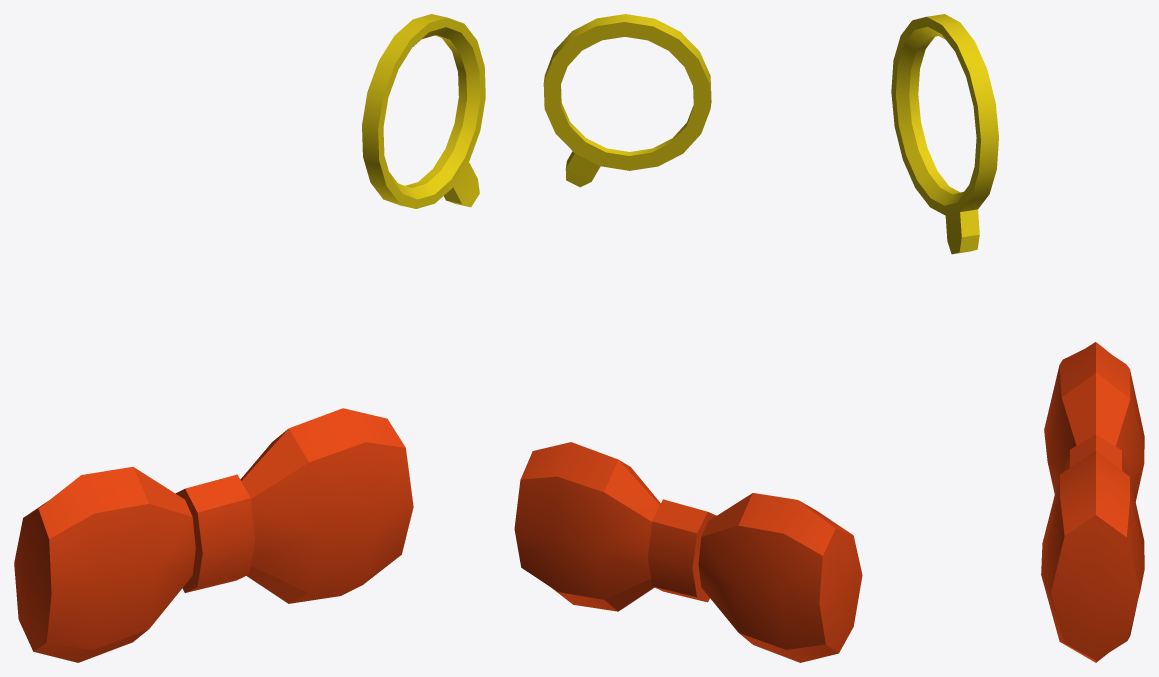
File: Monaclebowtie.fbx
3 renders of one model, left to right at view 1: azimuth 30°, elevation 25°; view 2: azimuth 150°, elevation 25°; view 3: azimuth 270°, elevation 25°, orthographic. The views are drawn at different scales.
Parts seen in each view (by area): view 1: pCylinder13, Monacle; view 2: pCylinder13, Monacle; view 3: pCylinder13, Monacle.
Boxes of the visible parts, box(x1,y1,x2,y2) form: pCylinder13: box(14, 408, 413, 662); Monacle: box(362, 14, 485, 208); pCylinder13: box(514, 442, 862, 662); Monacle: box(543, 14, 711, 187); pCylinder13: box(1041, 342, 1144, 662); Monacle: box(891, 14, 998, 254).
Size of the model in its own units: 23.79 by 35.51 by 12.58.
